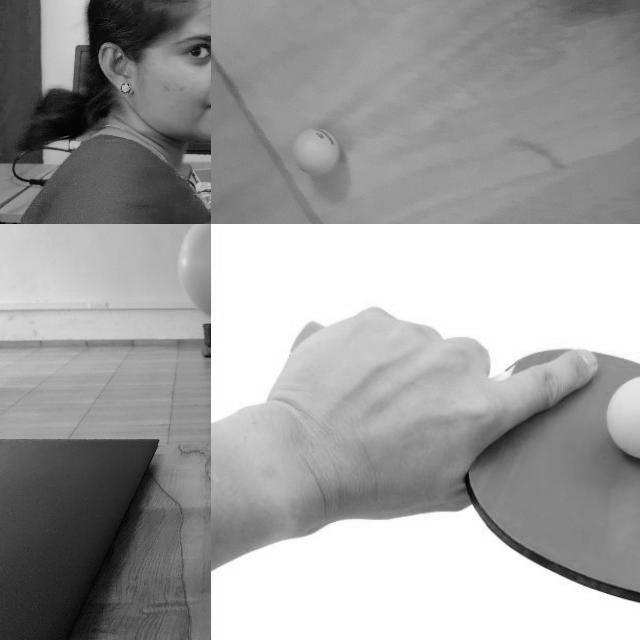ping-pong-ball: (178, 224, 210, 324), (607, 376, 639, 459), (292, 127, 338, 175)
